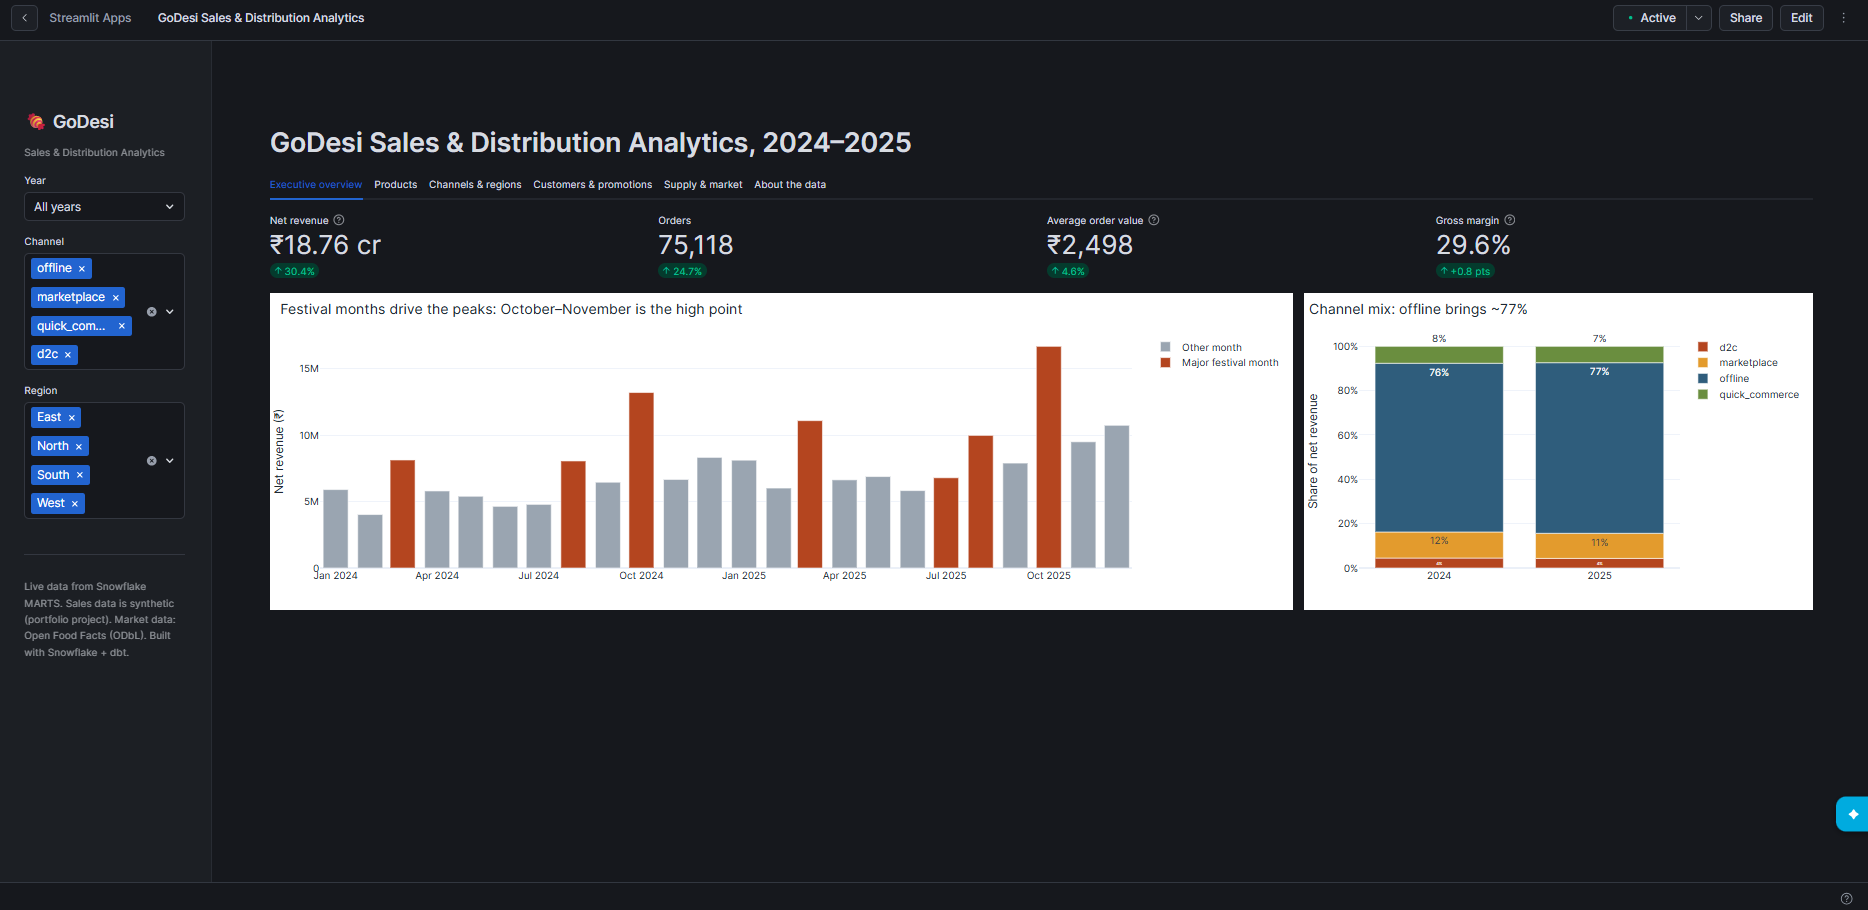

What the dashboard file says about the page in this screenshot:
{"tool":"powerbi","page":{"name":"Executive Overview","canvas":[1280,720],"ordinal":0},"visuals":[{"type":"slicer","fields":{"Values":["DIM_DATE.YEAR"]},"box":[699.8,9.6,190.7,70],"z":0},{"type":"slicer","fields":{"Values":["DIM_CHANNEL.CHANNEL"]},"box":[890.6,9.6,189.4,70],"z":1000},{"type":"slicer","fields":{"Values":["DIM_GEOGRAPHY.REGION"]},"box":[1079.9,9.6,182.5,70],"z":2000},{"type":"cardVisual","fields":{"Data":["FCT_ORDER_ITEMS.Net Revenue"]},"box":[20.6,79.6,249.7,122.1],"z":3000},{"type":"cardVisual","fields":{"Data":["FCT_ORDER_ITEMS.Orders"]},"box":[270.3,79.6,249.7,122.1],"z":4000},{"type":"cardVisual","fields":{"Data":["FCT_ORDER_ITEMS.AOV"]},"box":[520.1,79.6,249.7,122.1],"z":5000},{"type":"cardVisual","fields":{"Data":["FCT_ORDER_ITEMS.Gross Margin %"]},"box":[769.8,79.6,247,122.1],"z":6000},{"type":"cardVisual","title":" YoY growth (pick a year)","fields":{"Data":["FCT_ORDER_ITEMS.Revenue YoY %"]},"box":[1005.8,79.6,256.6,122.1],"z":7000},{"type":"clusteredColumnChart","title":"Monthly net revenue (rust = festival month)","fields":{"Category":["DIM_DATE.YEAR_MONTH"],"Y":["FCT_ORDER_ITEMS.Net Revenue"]},"box":[20,205,820.6,495],"z":8000},{"type":"hundredPercentStackedColumnChart","title":"Channel mix by year","fields":{"Category":["DIM_DATE.YEAR"],"Y":["FCT_ORDER_ITEMS.Net Revenue"],"Series":["DIM_CHANNEL.CHANNEL"]},"box":[841.2,204.5,439.1,516],"z":9000},{"type":"textbox","box":[20,10,600,50],"z":10000}]}

Visuals, with their boxes on the page's 1280x720 design canvas (x1, y1, x2, y2). These are canvas units, not pixel positions in the 1868x910 screenshot, which may show the page scaled, cropped or inside an application window:
slicer - DIM_DATE.YEAR: bbox(700, 10, 890, 80)
slicer - DIM_CHANNEL.CHANNEL: bbox(891, 10, 1080, 80)
slicer - DIM_GEOGRAPHY.REGION: bbox(1080, 10, 1262, 80)
cardVisual - FCT_ORDER_ITEMS.Net Revenue: bbox(21, 80, 270, 202)
cardVisual - FCT_ORDER_ITEMS.Orders: bbox(270, 80, 520, 202)
cardVisual - FCT_ORDER_ITEMS.AOV: bbox(520, 80, 770, 202)
cardVisual - FCT_ORDER_ITEMS.Gross Margin %: bbox(770, 80, 1017, 202)
" YoY growth (pick a year)" cardVisual: bbox(1006, 80, 1262, 202)
"Monthly net revenue (rust = festival month)" clusteredColumnChart: bbox(20, 205, 841, 700)
"Channel mix by year" hundredPercentStackedColumnChart: bbox(841, 204, 1280, 720)
textbox: bbox(20, 10, 620, 60)
